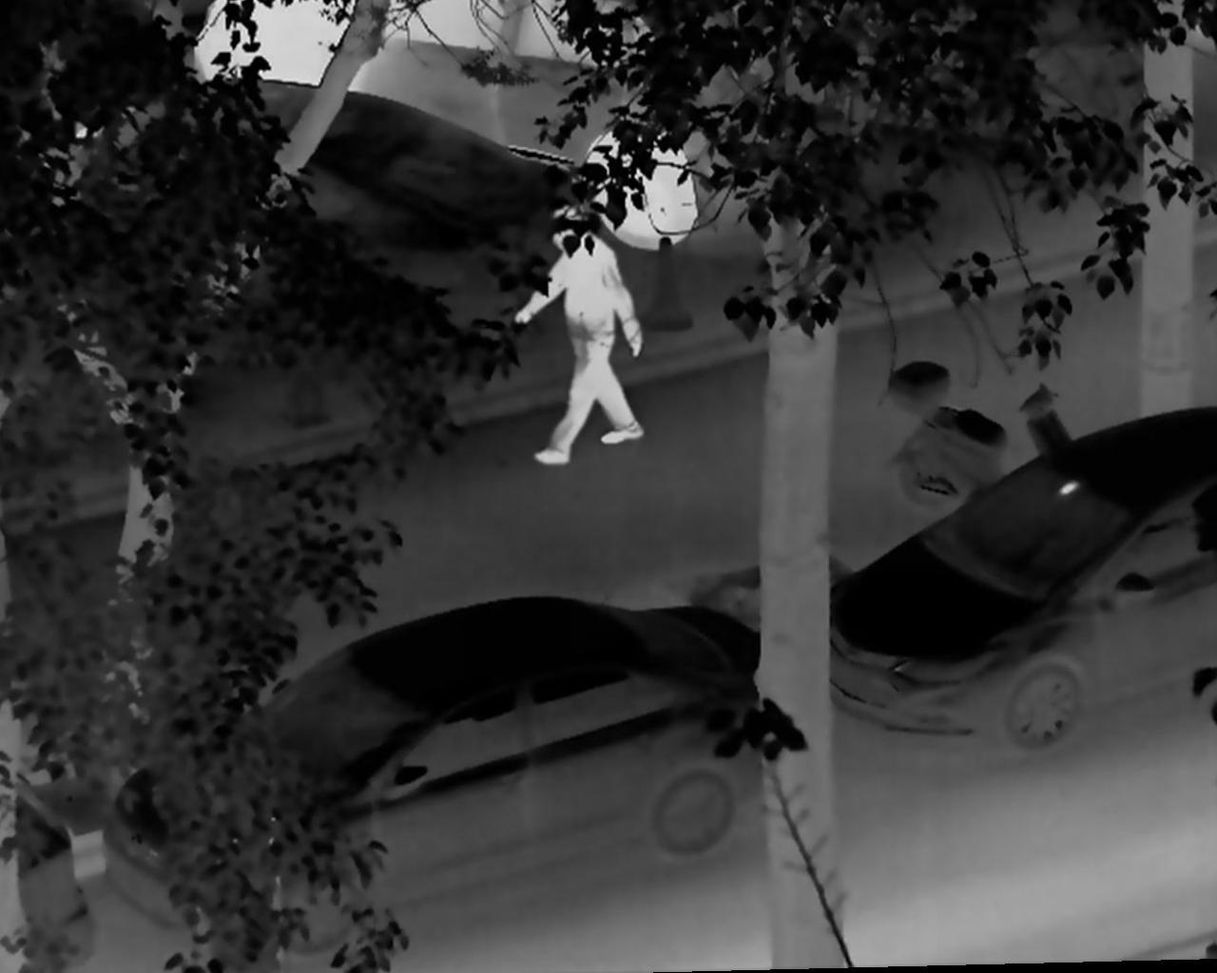person: (510, 201, 648, 468)
